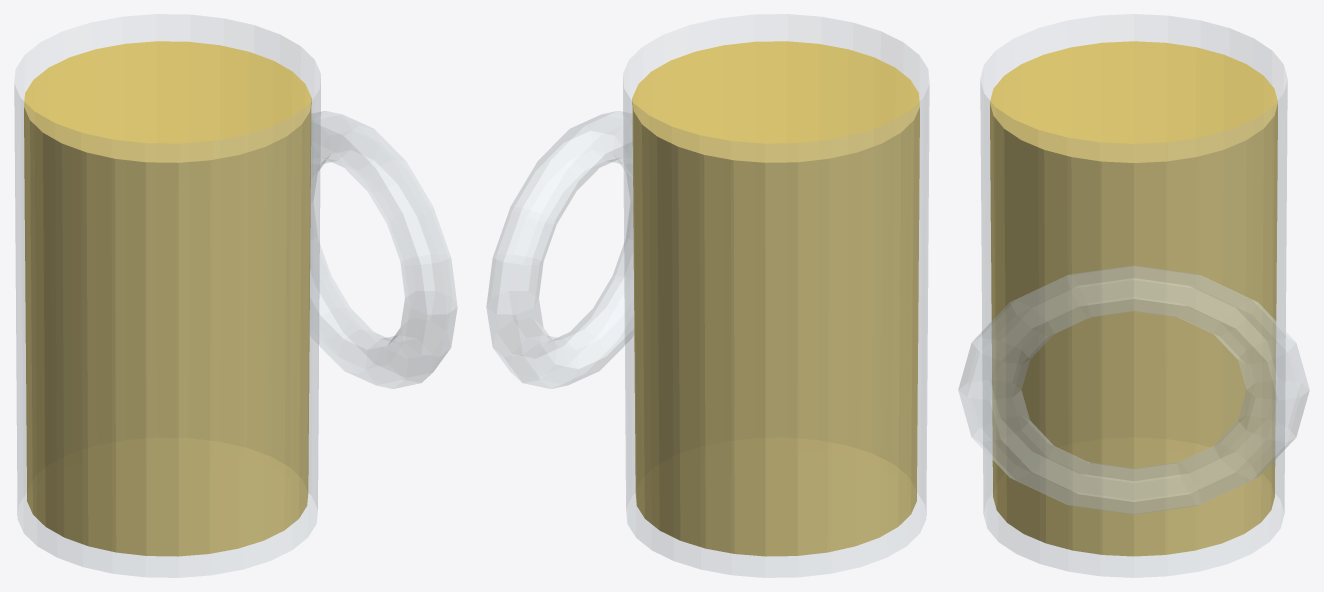
File: glass_tankard.glb
3 renders of one model, left to right at view 1: azimuth 30°, elevation 25°; view 2: azimuth 150°, elevation 25°; view 3: azimuth 270°, elevation 25°, orthographic.
Visible parts, largest first — view 1: GlassBody, LIQUID_SHAPE, Handle; view 2: GlassBody, LIQUID_SHAPE, Handle; view 3: LIQUID_SHAPE, GlassBody, Handle.
Boxes of the visible parts, bbox=[...] form: GlassBody: bbox=[14, 14, 320, 577]; LIQUID_SHAPE: bbox=[24, 41, 311, 556]; Handle: bbox=[310, 111, 457, 388]; GlassBody: bbox=[623, 14, 929, 577]; LIQUID_SHAPE: bbox=[632, 41, 919, 556]; Handle: bbox=[486, 111, 633, 388]; LIQUID_SHAPE: bbox=[990, 41, 1277, 556]; GlassBody: bbox=[980, 14, 1287, 577]; Handle: bbox=[958, 265, 1309, 514].
Size of the model in its own units: 0.1247 by 0.15 by 0.1098.
